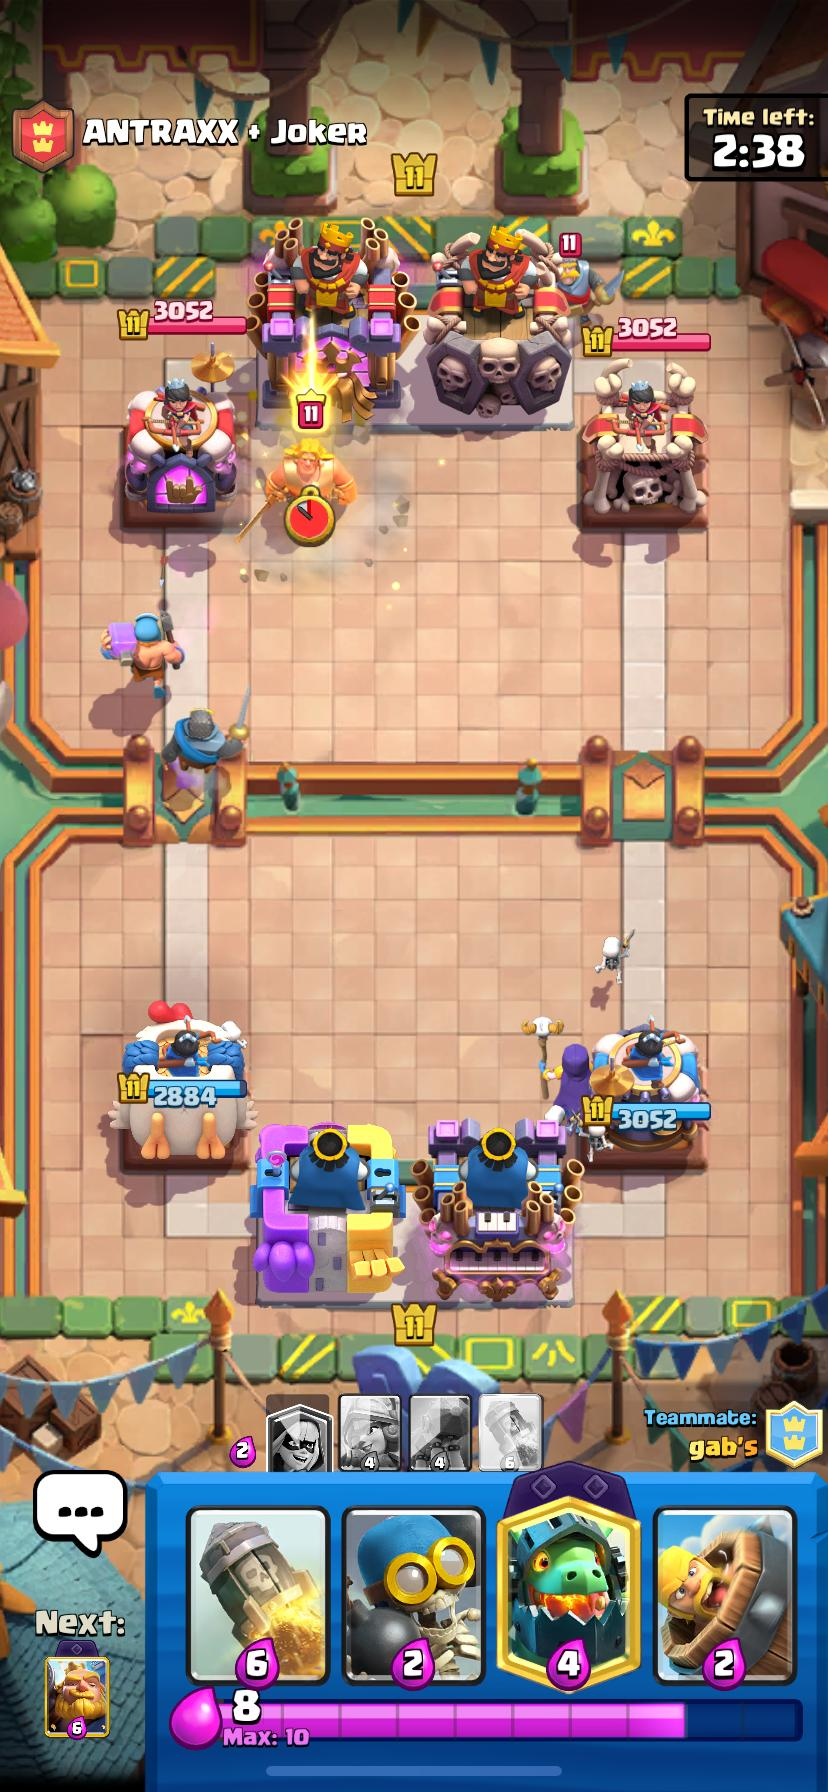EKingTower: (249, 219, 417, 427), (423, 226, 571, 421)
EKnight: (557, 256, 619, 327)
ERoyalKnight: (265, 439, 357, 506)
EnemyPrincessTower: (580, 365, 706, 519), (124, 384, 236, 521)
OKnight: (161, 697, 248, 773)
OLarry: (595, 930, 634, 984), (586, 1126, 613, 1165)
OLumberjack: (102, 613, 184, 701)
OWitch: (523, 1016, 589, 1121)
OwnKingTower: (414, 1122, 572, 1303), (253, 1123, 403, 1303)
OwnPrincessTower: (109, 1003, 254, 1160), (582, 1018, 710, 1161)
